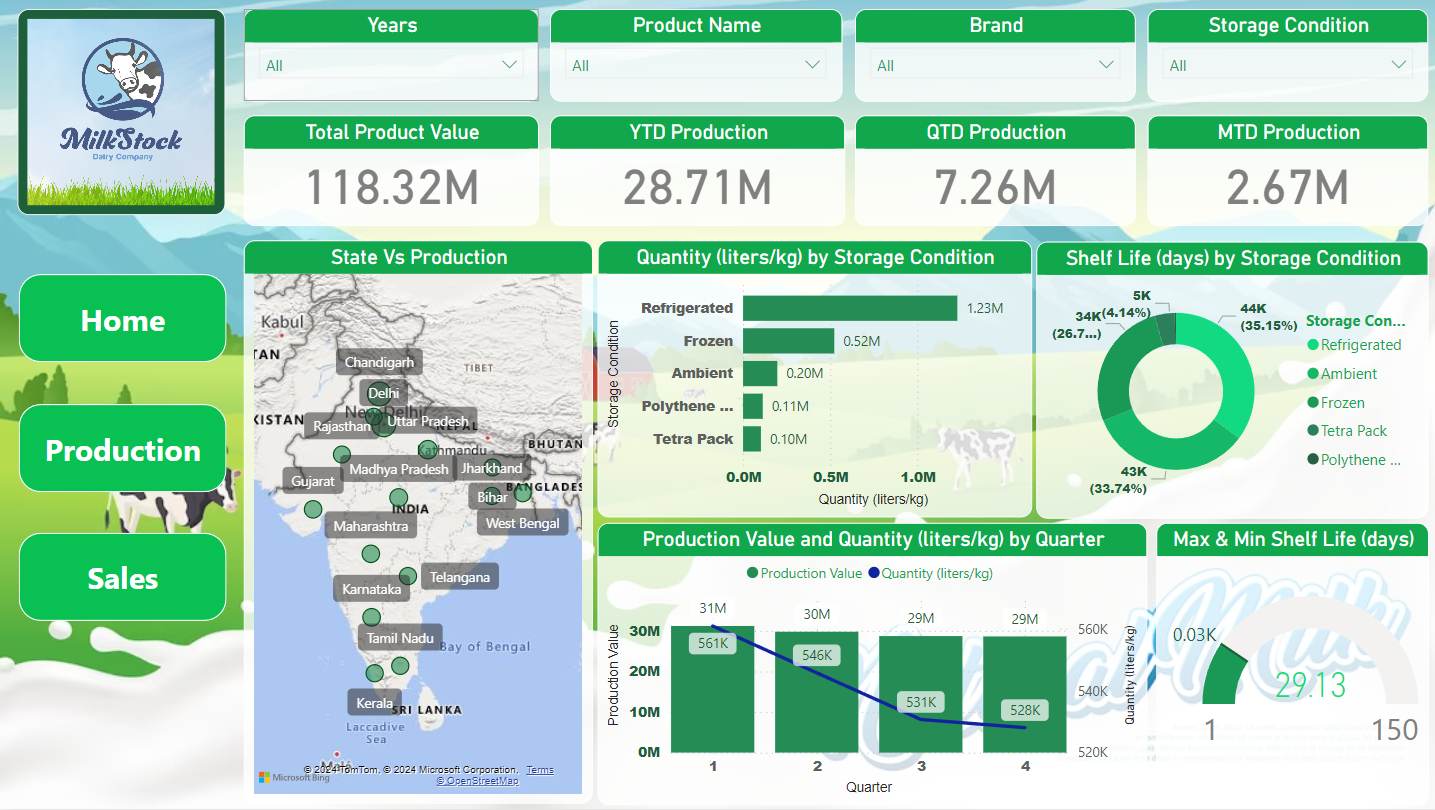

This screenshot's page, from the dashboard's own definition file:
{"tool":"powerbi","page":{"name":"Production","canvas":[1280,720],"ordinal":1},"visuals":[{"type":"image","box":[15.9,8.7,184.7,183.2],"z":0},{"type":"shape","box":[16.4,244.1,184.7,78.4],"z":1000},{"type":"shape","box":[16.4,360.5,184.7,78.4],"z":2000},{"type":"shape","box":[16.4,474.3,184.7,78.4],"z":3000},{"type":"slicer","title":"Years","fields":{"Values":["dairy_goods.Year","dairy_goods.Month Name","dairy_goods.DayOfMonth"]},"box":[216.4,8.7,262.6,82.2],"z":4000},{"type":"slicer","title":"Product Name","fields":{"Values":["dairy_goods.Product Name"]},"box":[489.1,8.7,259.7,82.2],"z":5000},{"type":"slicer","title":"Brand","fields":{"Values":["dairy_goods.Brand"]},"box":[760.3,8.7,249.6,82.2],"z":6000},{"type":"slicer","title":"Storage Condition","fields":{"Values":["dairy_goods.Storage Condition"]},"box":[1020,8.7,249.6,82.2],"z":7000},{"type":"card","title":"Total Product Value","fields":{"Values":["Sum(dairy_goods.Total Value)"]},"box":[216.4,103.9,262.6,98.1],"z":8000},{"type":"card","title":"YTD Production","fields":{"Values":["dairy_goods.YTDProduction"]},"box":[489.1,103.9,262.6,98.1],"z":9000},{"type":"card","title":"QTD Production","fields":{"Values":["dairy_goods.QTDProduction"]},"box":[760.3,103.9,249.6,98.1],"z":10000},{"type":"card","title":"MTD Production","fields":{"Values":["dairy_goods.MTDProduction"]},"box":[1020,103.9,249.6,98.1],"z":11000},{"type":"map","title":"State Vs Production","fields":{"Category":["dairy_goods.Location"],"Size":["Sum(dairy_goods.Total Value)"]},"box":[216.7,214.4,310,501.1],"z":12000},{"type":"clusteredBarChart","title":"Quantity (liters/kg) by Storage Condition","fields":{"Category":["dairy_goods.Storage Condition"],"Y":["Sum(dairy_goods.Quantity (liters/kg))"]},"box":[531.1,214.4,386,246],"z":13000},{"type":"lineStackedColumnComboChart","fields":{"Y2":["Sum(dairy_goods.Quantity (liters/kg))"],"Y":["Sum(dairy_goods.Total Value)"],"Category":["dairy_goods.Quarter"]},"box":[531.1,465.6,488.9,251.1],"z":14000},{"type":"donutChart","title":"Shelf Life (days) by Storage Condition","fields":{"Y":["Sum(dairy_goods.Shelf Life (days))"],"Category":["dairy_goods.Storage Condition"]},"box":[921.1,215.6,348.9,246],"z":14001},{"type":"gauge","title":"Max & Min Shelf Life (days)","fields":{"MinValue":["Min(dairy_goods.Shelf Life (days))"],"MaxValue":["Max(dairy_goods.Shelf Life (days))"],"Y":["Avg(dairy_goods.Shelf Life (days))"],"TargetValue":["Avg(dairy_goods.Shelf Life (days))"]},"box":[1027.8,465.6,242.2,251.1],"z":14002}]}

Visuals, with their boxes in screenshot pixels (x1, y1, x2, y2), scaled from the page's 1280x720 canvas onto the 1435x810 screenshot:
image: bbox=[18, 10, 225, 216]
shape: bbox=[18, 275, 225, 363]
shape: bbox=[18, 406, 225, 494]
shape: bbox=[18, 534, 225, 622]
"Years" slicer: bbox=[243, 10, 537, 102]
"Product Name" slicer: bbox=[548, 10, 839, 102]
"Brand" slicer: bbox=[852, 10, 1132, 102]
"Storage Condition" slicer: bbox=[1144, 10, 1423, 102]
"Total Product Value" card: bbox=[243, 117, 537, 227]
"YTD Production" card: bbox=[548, 117, 843, 227]
"QTD Production" card: bbox=[852, 117, 1132, 227]
"MTD Production" card: bbox=[1144, 117, 1423, 227]
"State Vs Production" map: bbox=[243, 241, 590, 805]
"Quantity (liters/kg) by Storage Condition" clusteredBarChart: bbox=[595, 241, 1028, 518]
lineStackedColumnComboChart - Sum(dairy_goods.Quantity (liters/kg)) x Sum(dairy_goods.Total Value): bbox=[595, 524, 1144, 806]
"Shelf Life (days) by Storage Condition" donutChart: bbox=[1033, 243, 1424, 519]
"Max & Min Shelf Life (days)" gauge: bbox=[1152, 524, 1424, 806]
